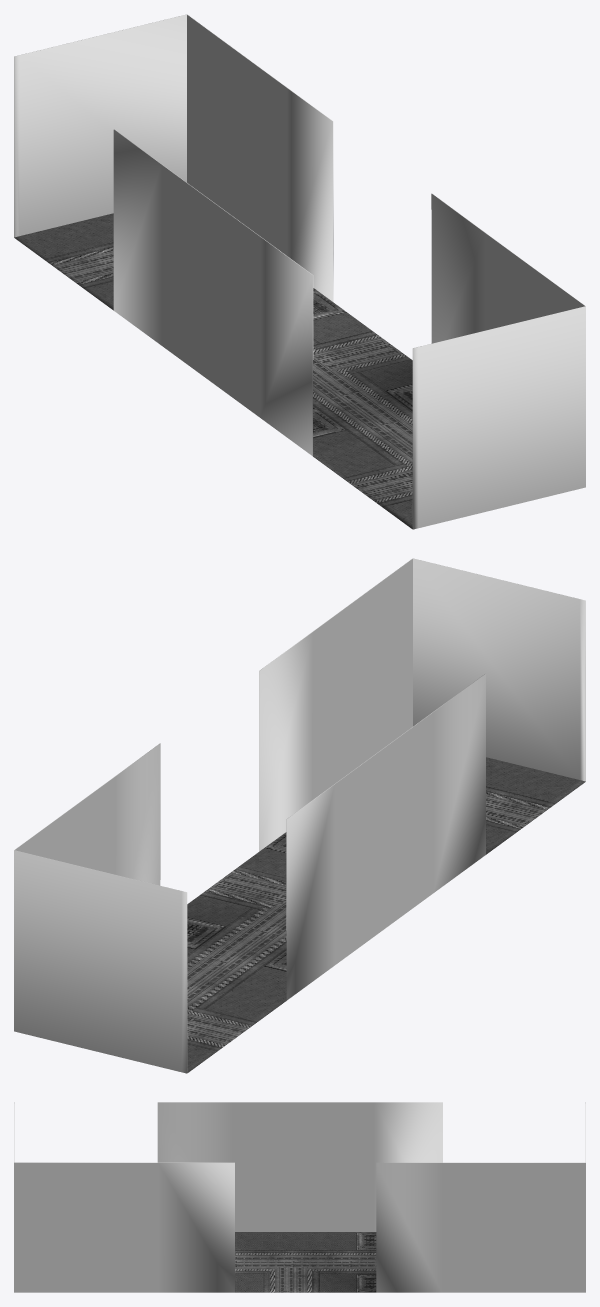
File: corridor_c-6.fbx
The picture shows the model from 3 angles, top to bottom: view 1: azimuth 30°, elevation 25°; view 2: azimuth 150°, elevation 25°; view 3: azimuth 270°, elevation 25°; orthographic projection. The views are drawn at different scales.
Visible parts, largest first — view 1: corridor C-6; view 2: corridor C-6; view 3: corridor C-6.
Part boxes in pixels (x1=…): corridor C-6: x1=14, y1=14, x2=585, y2=529; corridor C-6: x1=14, y1=558, x2=585, y2=1073; corridor C-6: x1=14, y1=1102, x2=585, y2=1292.
Size of the model in its own units: 361 by 361 by 1442.
